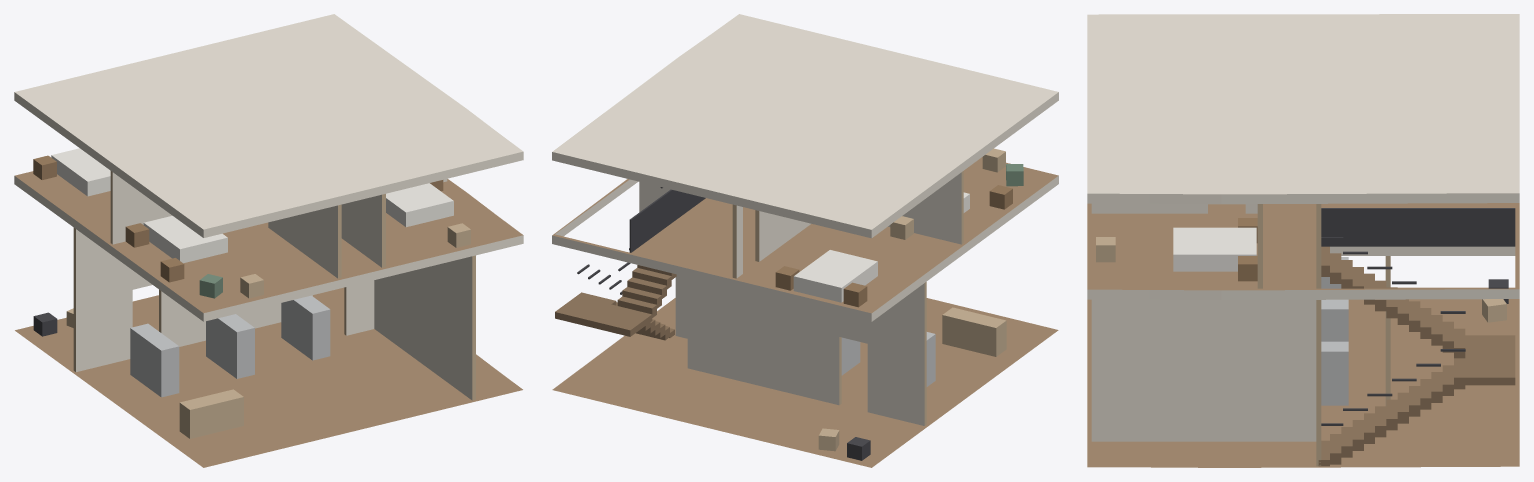
Rendered from interior.glb.
3 views of the same model, side by side, from view 1: azimuth 30°, elevation 25°; view 2: azimuth 150°, elevation 25°; view 3: azimuth 270°, elevation 25° (orthographic). The views are drawn at different scales.
Visible parts, largest first — view 1: slabs, partitions, coarse-s0, coarse-s1; view 2: slabs, partitions, stair, coarse-s1, coarse-s0; view 3: slabs, partitions, stair, coarse-s1, coarse-s0.
Boxes of the visible parts, bbox=[...] form: slabs: bbox=[14, 14, 523, 467]; partitions: bbox=[73, 171, 475, 400]; coarse-s0: bbox=[33, 295, 330, 438]; coarse-s1: bbox=[33, 148, 470, 298]; slabs: bbox=[552, 14, 1058, 467]; partitions: bbox=[639, 171, 963, 425]; stair: bbox=[555, 187, 705, 340]; coarse-s1: bbox=[775, 148, 1023, 307]; coarse-s0: bbox=[818, 307, 1006, 460]; slabs: bbox=[1087, 14, 1519, 467]; partitions: bbox=[1091, 203, 1390, 466]; stair: bbox=[1318, 208, 1515, 466]; coarse-s1: bbox=[1096, 218, 1257, 281]; coarse-s0: bbox=[1321, 257, 1508, 405].
Bounding box in the file's own units: 10.23 × 7.25 × 10.35.
